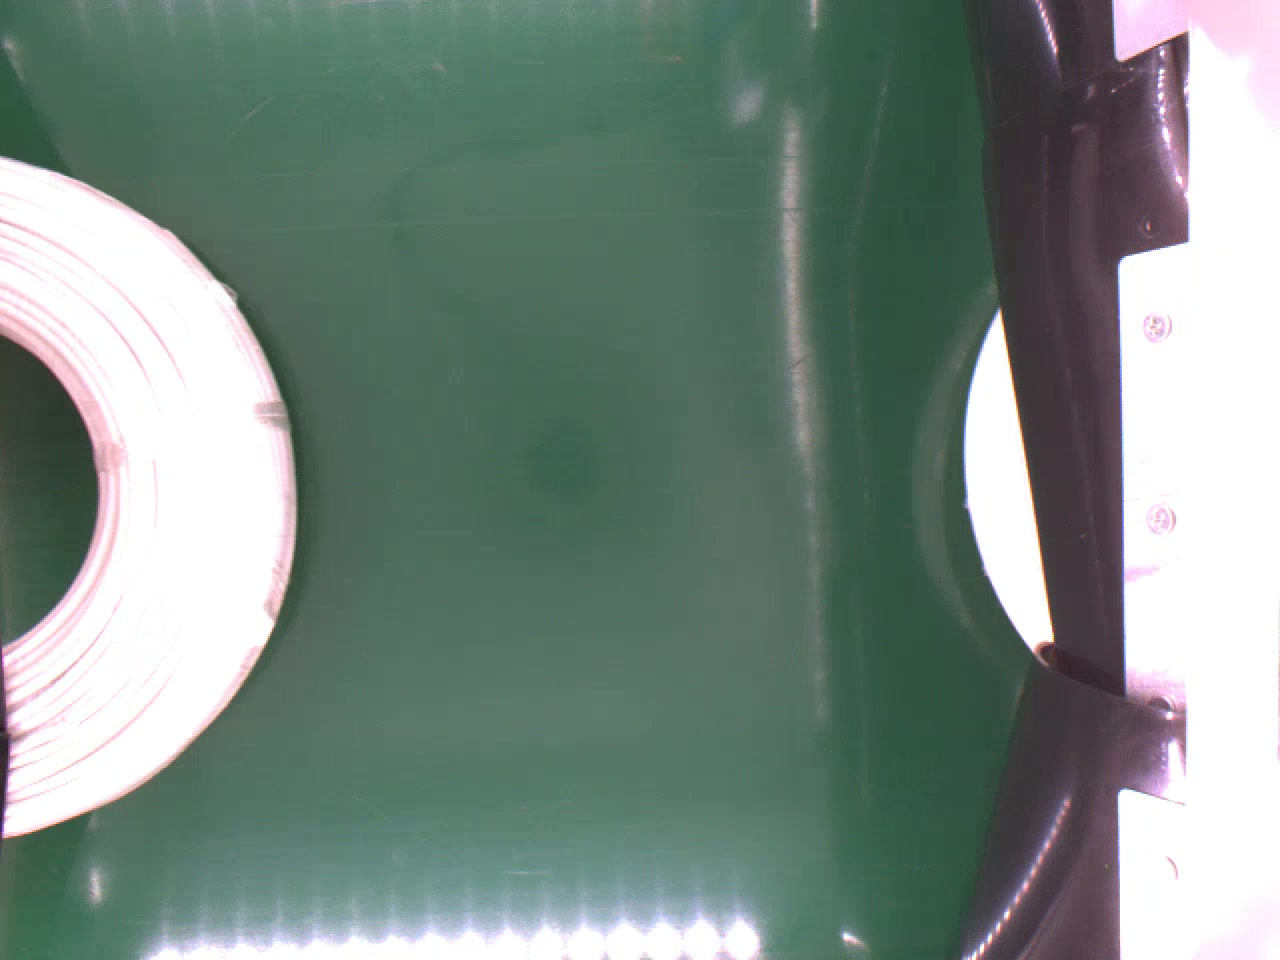white: (0, 150, 299, 842)
